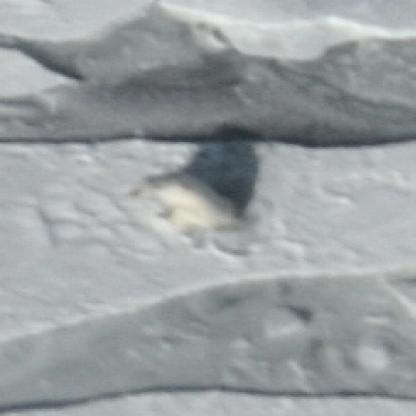polar-bear: (127, 176, 239, 234)
